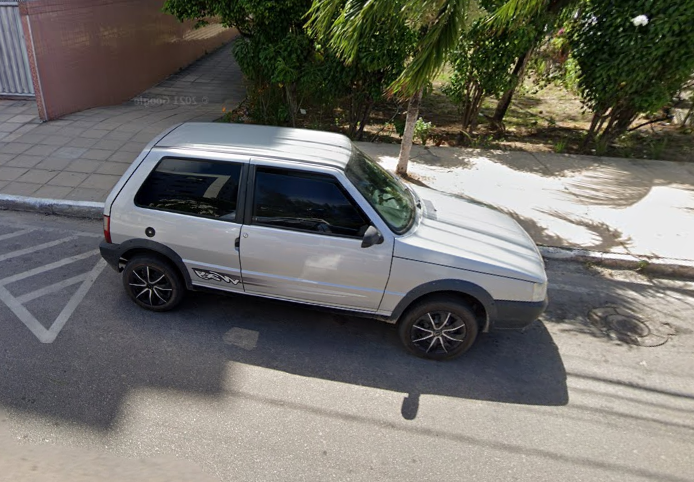car: (99, 117, 551, 365)
